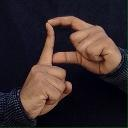hand: (19, 22, 72, 119), (48, 15, 122, 75)
